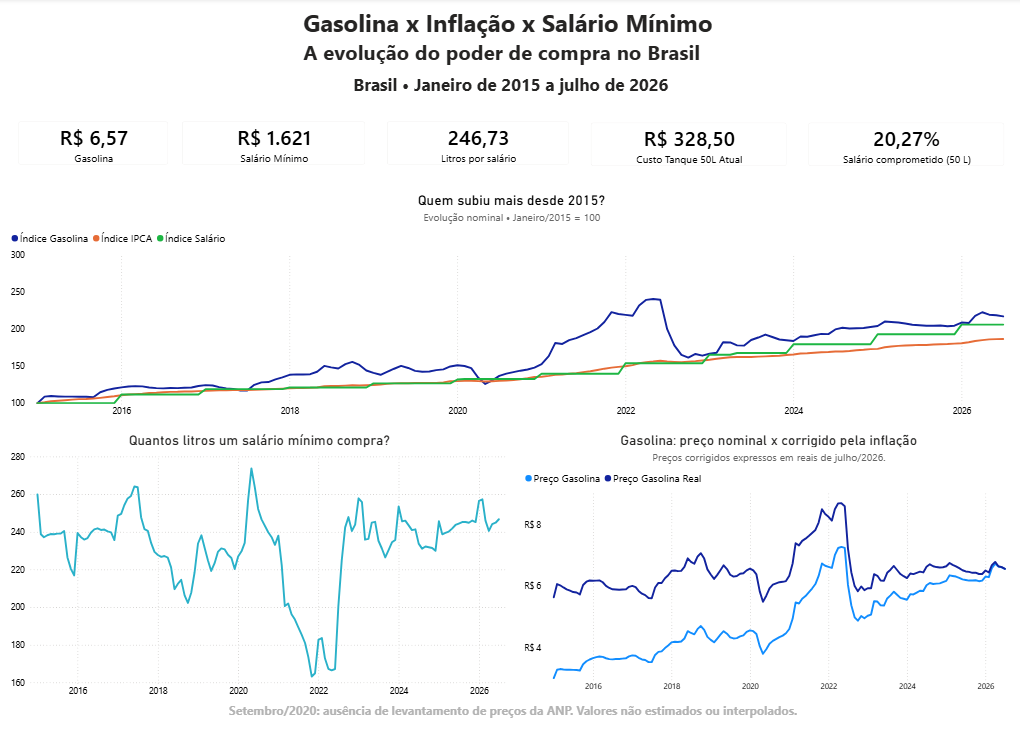

Layout of this report page (visuals, bound fields, positions):
{"tool":"powerbi","page":{"name":"Página 1","canvas":[1600,1150],"ordinal":0},"visuals":[{"type":"cardVisual","fields":{"Data":["Medidas.Preço Gasolina Atual"]},"box":[12,176,268,102],"z":0},{"type":"cardVisual","fields":{"Data":["Medidas.Salário Mínimo Atual"]},"box":[268,176,320,102],"z":1000},{"type":"cardVisual","fields":{"Data":["Medidas.Litros por Salário Atual"]},"box":[588,176,318,102],"z":2000},{"type":"cardVisual","fields":{"Data":["Medidas.Custo Tanque 50L Atual"]},"box":[906,178,340,102],"z":3000},{"type":"cardVisual","fields":{"Data":["Medidas.Percentual Salário Tanque Atual"]},"box":[1246,178,340,102],"z":4000},{"type":"textbox","box":[468.8,7.8,664.1,103.5],"z":5000},{"type":"textbox","box":[546,112,506,48],"z":6000},{"type":"lineChart","title":"Quem subiu mais desde 2015?","fields":{"Category":["DimData.InicioMes"],"Y":["Medidas.Índice Gasolina","Medidas.Índice IPCA","Medidas.Índice Salário"]},"box":[12,302,1576,362],"z":7000},{"type":"lineChart","title":"Quantos litros um salário mínimo compra?","fields":{"Category":["DimData.InicioMes"],"Y":["Medidas.Litros por Salário"]},"box":[12,678,788,424],"z":8000},{"type":"lineChart","title":"Gasolina: preço nominal x corrigido pela inflação","fields":{"Y":["Medidas.Preço Gasolina","Medidas.Preço Gasolina Real"],"Category":["DimData.InicioMes"]},"box":[814,678,774,416],"z":9000},{"type":"textbox","box":[12,1096,1580,48],"z":10000}]}

Visuals, with their boxes in screenshot pixels (x1, y1, x2, y2), scaled from the page's 1600x1150 canvas onto the 1020x732 screenshot:
cardVisual - Medidas.Preço Gasolina Atual: crop(8, 112, 178, 177)
cardVisual - Medidas.Salário Mínimo Atual: crop(171, 112, 375, 177)
cardVisual - Medidas.Litros por Salário Atual: crop(375, 112, 578, 177)
cardVisual - Medidas.Custo Tanque 50L Atual: crop(578, 113, 794, 178)
cardVisual - Medidas.Percentual Salário Tanque Atual: crop(794, 113, 1011, 178)
textbox: crop(299, 5, 722, 71)
textbox: crop(348, 71, 671, 102)
"Quem subiu mais desde 2015?" lineChart: crop(8, 192, 1012, 423)
"Quantos litros um salário mínimo compra?" lineChart: crop(8, 432, 510, 701)
"Gasolina: preço nominal x corrigido pela inflação" lineChart: crop(519, 432, 1012, 696)
textbox: crop(8, 698, 1015, 728)
